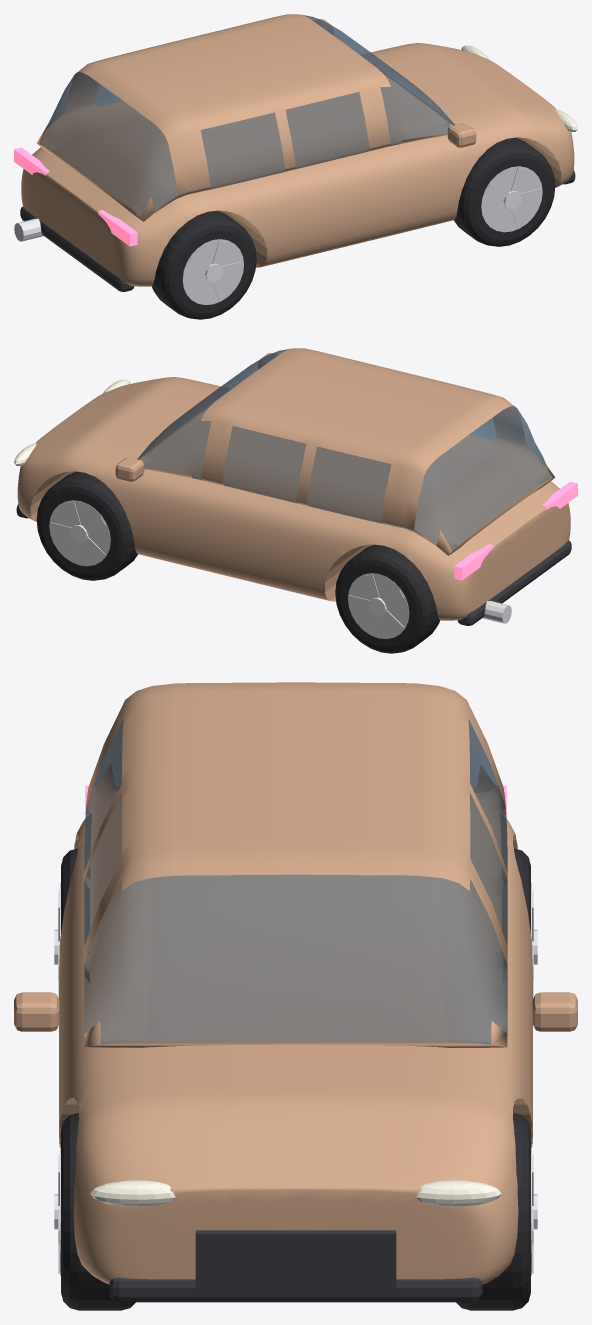
The model's file is rusty_compact.fbx.
3 views of the same model, one above another, from view 1: azimuth 30°, elevation 25°; view 2: azimuth 150°, elevation 25°; view 3: azimuth 270°, elevation 25° (orthographic). The views are drawn at different scales.
Visible parts, largest first — view 1: Body, Glass, Tire, Rim, Trim, TailLight, Chrome, HeadLight; view 2: Body, Glass, Tire, Rim, Trim, TailLight, Chrome, HeadLight; view 3: Body, Glass, Trim, Tire, HeadLight, Rim.
Boxes of the visible parts, <box> form: Body: <box>21,14,574,286</box>; Glass: <box>41,15,454,216</box>; Tire: <box>151,137,555,319</box>; Rim: <box>182,166,542,305</box>; Trim: <box>20,170,575,291</box>; TailLight: <box>14,147,137,246</box>; Chrome: <box>14,191,521,282</box>; HeadLight: <box>461,45,577,131</box>; Body: <box>17,348,570,620</box>; Glass: <box>137,349,550,550</box>; Tire: <box>36,471,440,653</box>; Rim: <box>49,500,409,639</box>; Trim: <box>16,504,571,625</box>; TailLight: <box>454,481,577,580</box>; Chrome: <box>70,525,511,623</box>; HeadLight: <box>14,379,130,465</box>; Body: <box>14,682,577,1284</box>; Glass: <box>84,719,507,1044</box>; Trim: <box>109,1230,482,1302</box>; Tire: <box>61,848,530,1310</box>; HeadLight: <box>90,1180,501,1206</box>; Rim: <box>58,883,533,1275</box>.
Bounding box in the file's own units: 1210 × 455 × 684.
